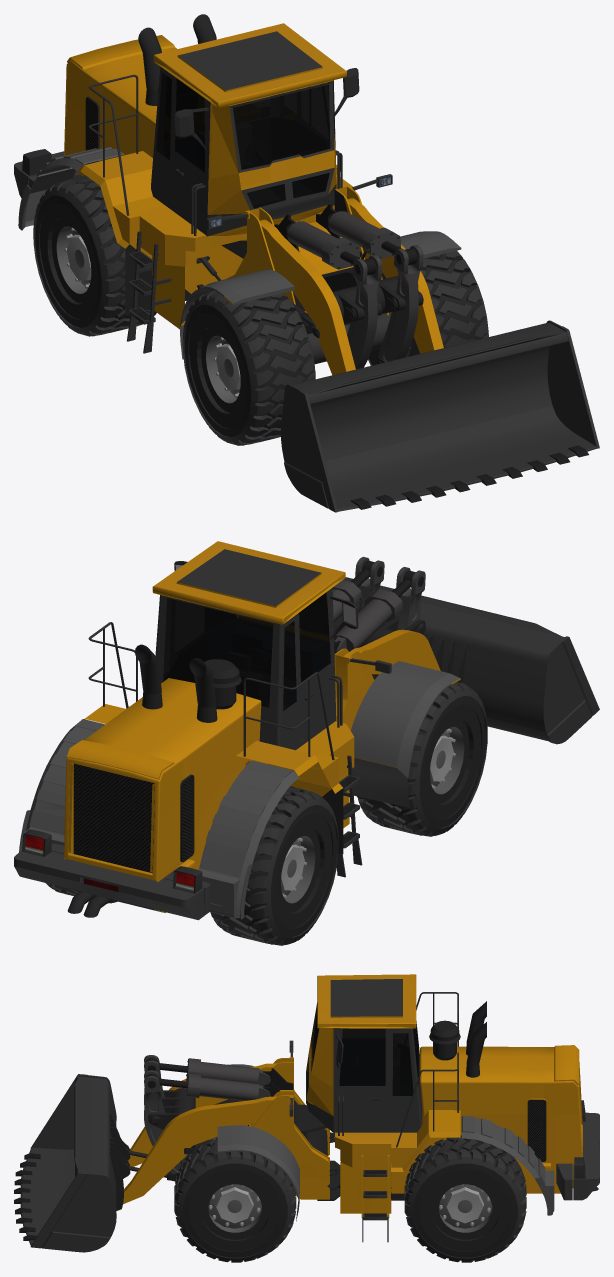
File: Truck-2.FBX
3 views of the same model, one above another, from view 1: azimuth 30°, elevation 25°; view 2: azimuth 150°, elevation 25°; view 3: azimuth 270°, elevation 25° (orthographic). The views are drawn at different scales.
Visible parts, largest first — view 1: Body, Lefter, FR, BR, Body2, FL; view 2: Body, Lefter, BR, Body2, FR; view 3: Body, Lefter, BL, FL, Body2.
Part boxes in pixels (x1=…): Body: x1=14, y1=14, x2=359, y2=353; Lefter: x1=259, y1=198, x2=599, y2=512; FR: x1=182, y1=290, x2=315, y2=445; BR: x1=33, y1=175, x2=156, y2=336; Body2: x1=180, y1=174, x2=461, y2=364; FL: x1=368, y1=250, x2=488, y2=365; Body: x1=14, y1=541, x2=362, y2=920; Lefter: x1=332, y1=556, x2=599, y2=744; BR: x1=210, y1=786, x2=338, y2=945; Body2: x1=334, y1=640, x2=460, y2=807; FR: x1=357, y1=682, x2=487, y2=836; Body: x1=306, y1=974, x2=599, y2=1242; Lefter: x1=14, y1=1055, x2=277, y2=1252; BL: x1=404, y1=1135, x2=526, y2=1262; FL: x1=174, y1=1137, x2=296, y2=1262; Body2: x1=217, y1=1040, x2=340, y2=1221.
Bounding box in the file's own units: 30.07 × 31.61 × 74.86.
